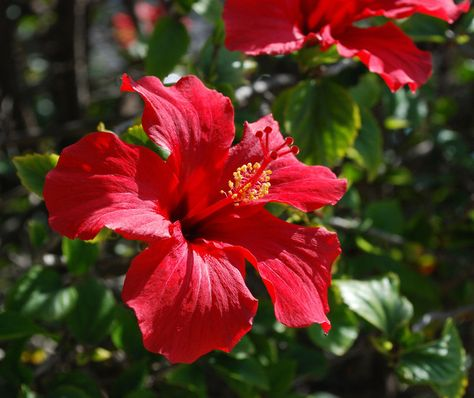Hibiscus: (48, 73, 373, 360), (200, 1, 474, 83)
